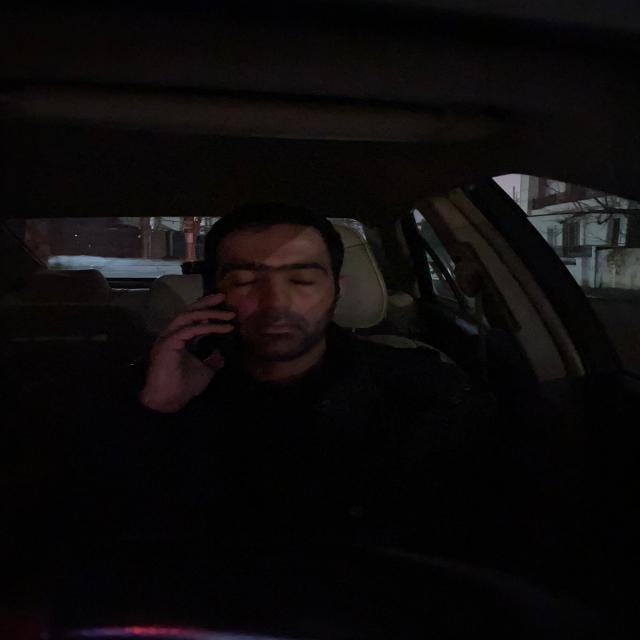mobile: (198, 292, 240, 366)
person: (210, 218, 340, 360)
